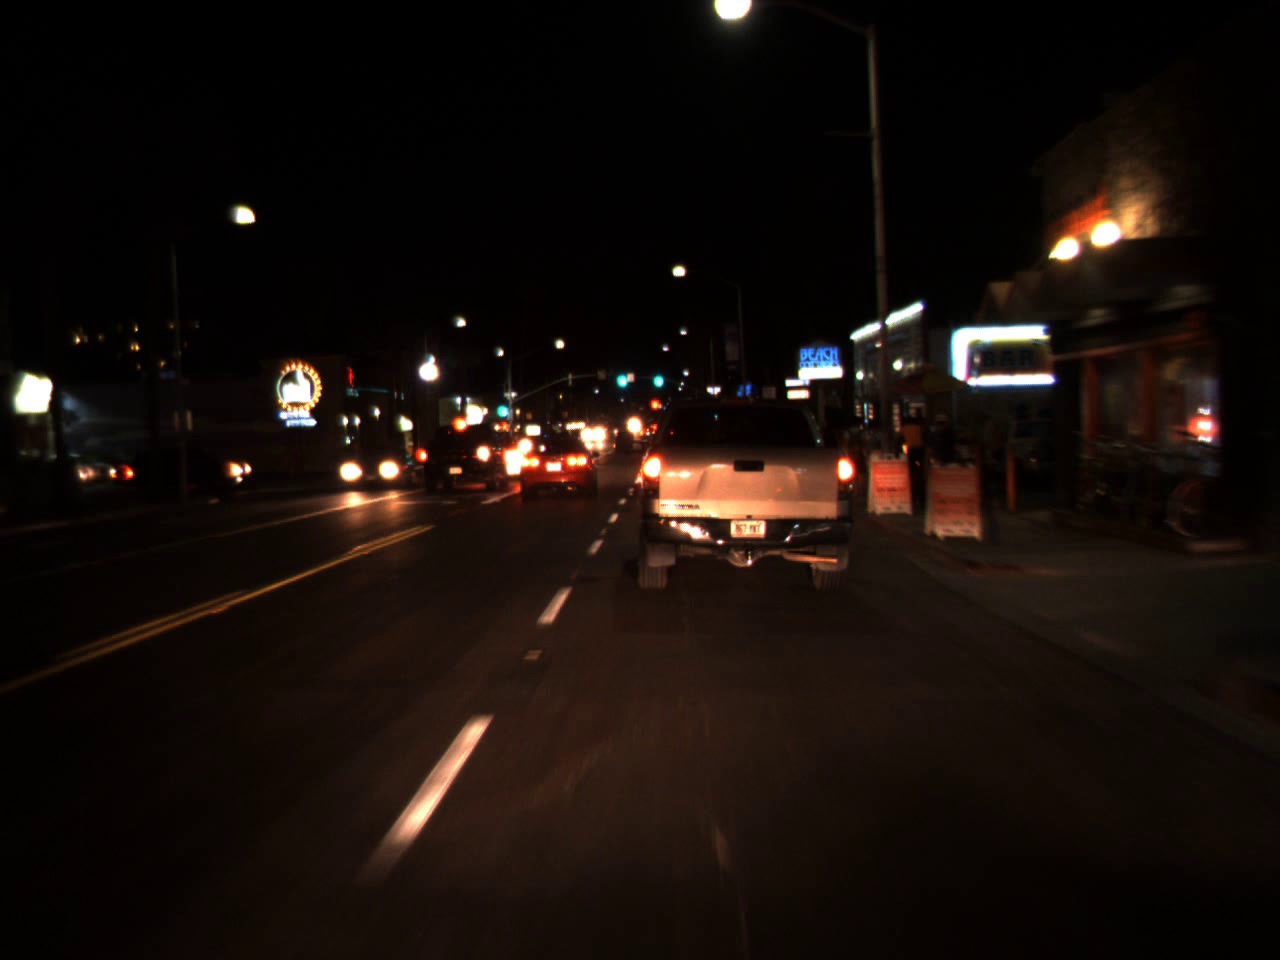go: (613, 361, 629, 391), (649, 363, 665, 390), (494, 391, 506, 421)
